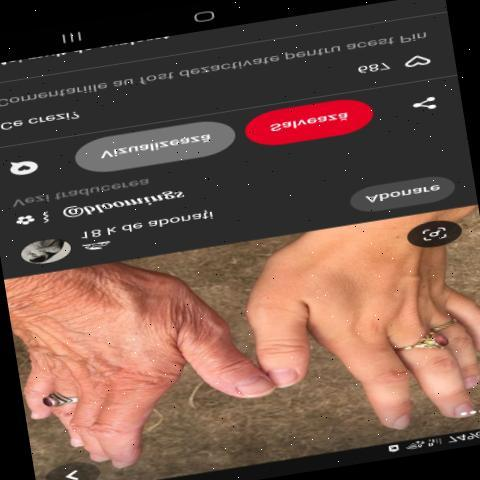Hands: (25, 260, 270, 474), (263, 221, 480, 452)
